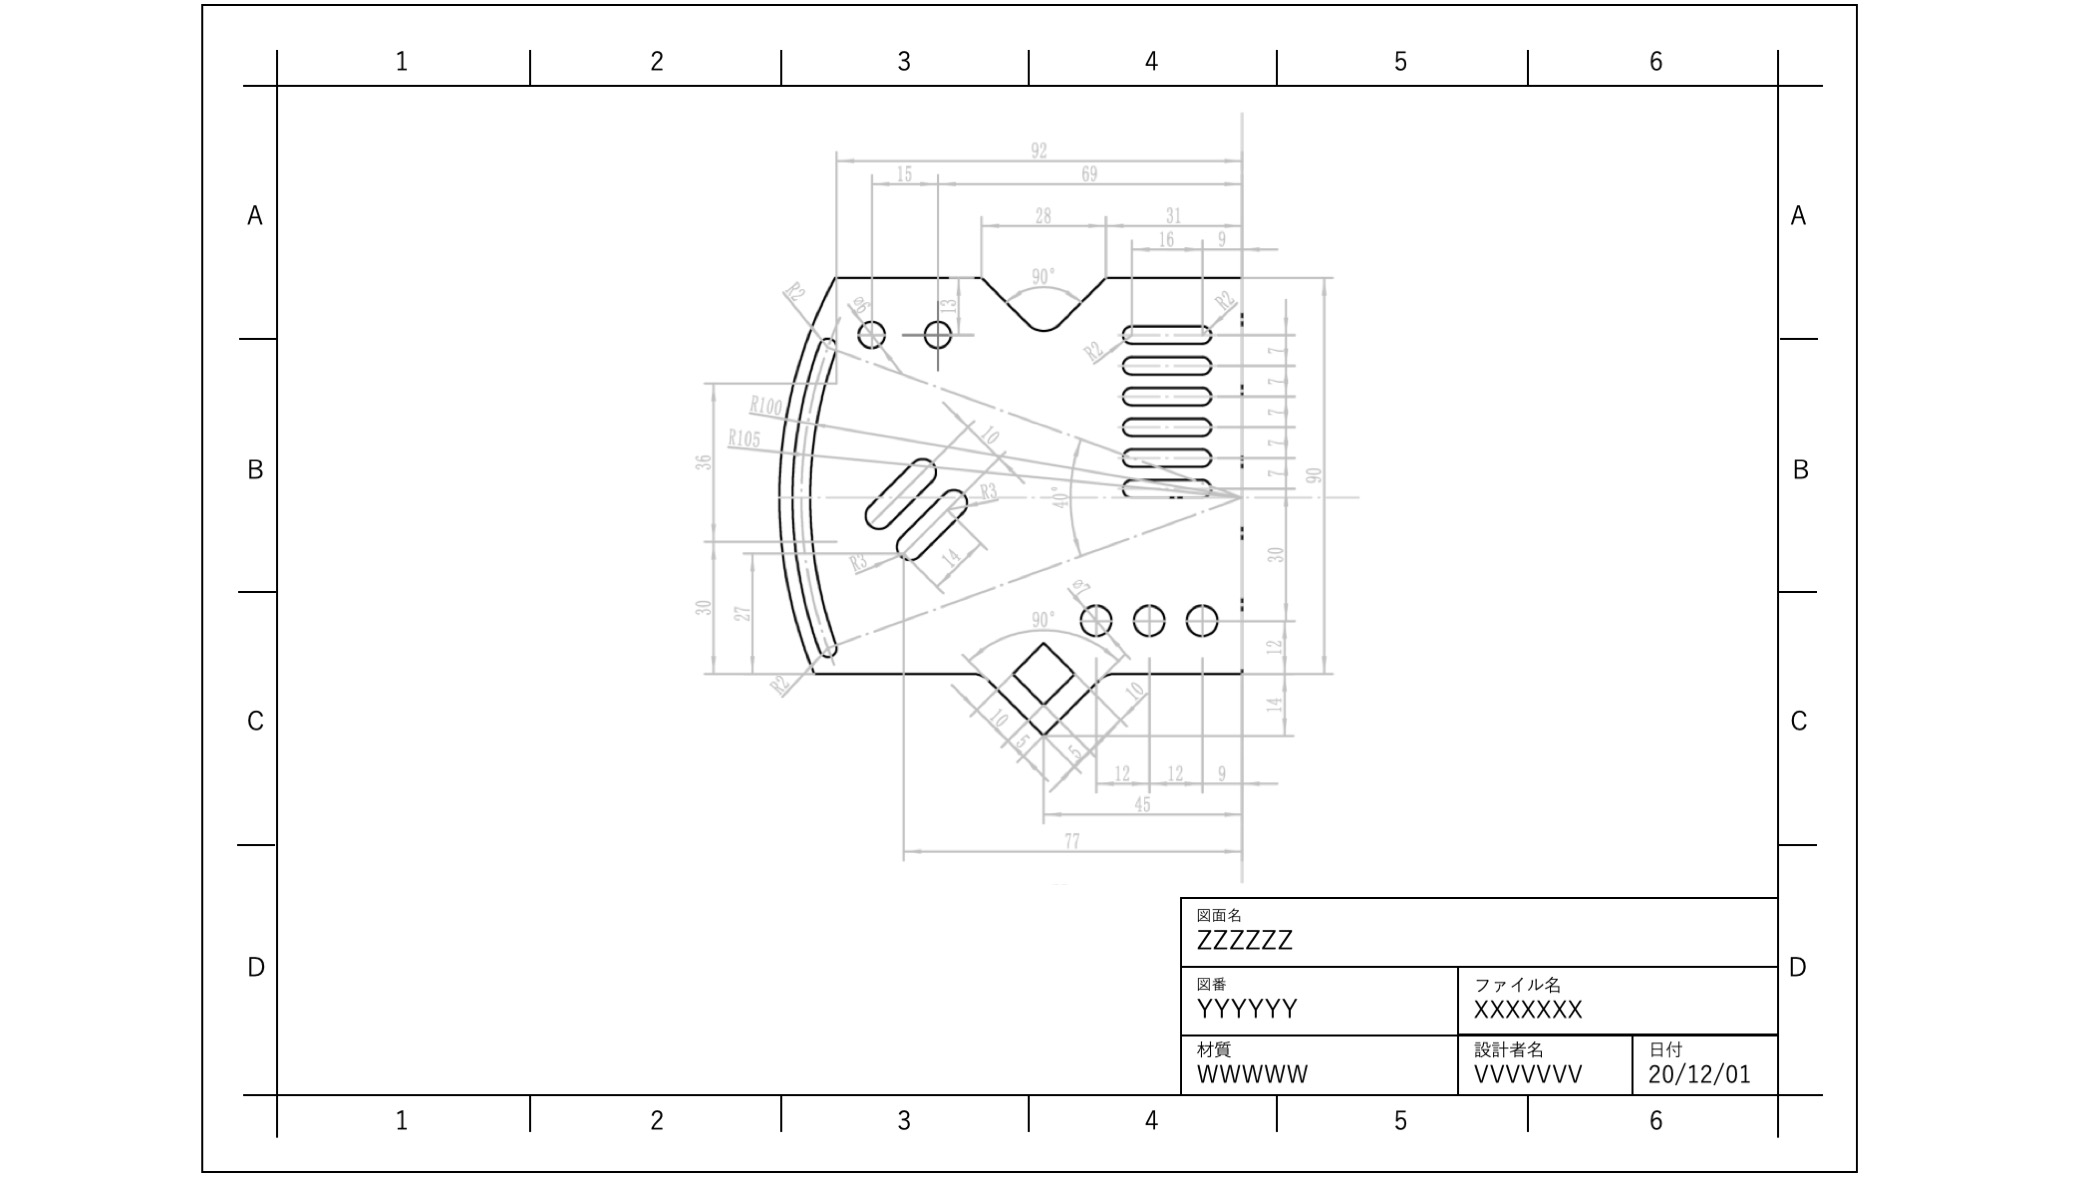circle: (910, 311, 961, 355), (1128, 597, 1175, 642), (1075, 598, 1121, 642), (1183, 593, 1225, 639), (845, 311, 887, 353)
rectangle: (995, 639, 1083, 711)
round_rectangle: (773, 330, 842, 655), (883, 486, 974, 565), (855, 448, 940, 528), (1116, 314, 1217, 346), (1113, 477, 1217, 505), (1112, 412, 1214, 440), (1115, 350, 1214, 378), (1118, 382, 1220, 408), (1111, 446, 1220, 469)
